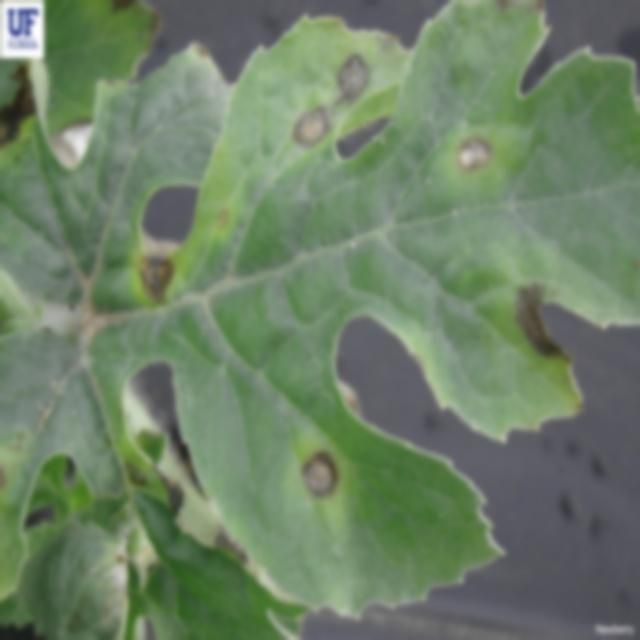leaf_spot: (83, 0, 611, 620)
